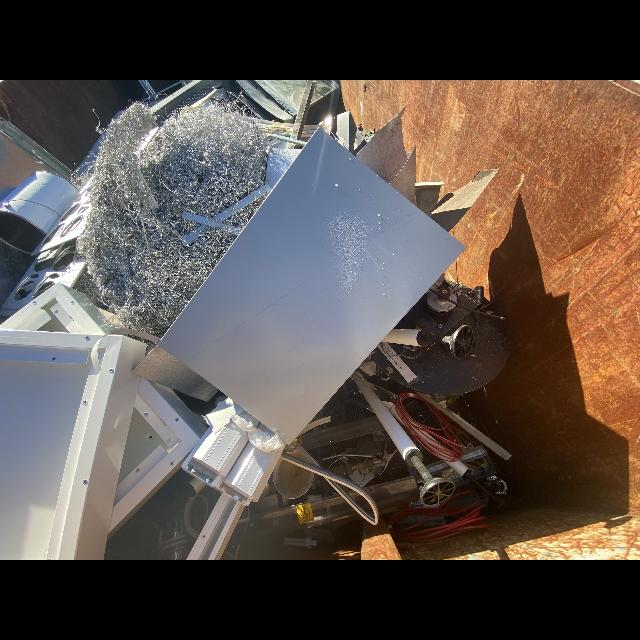Aluminium: (76, 103, 268, 336), (356, 106, 416, 204), (429, 169, 499, 231), (236, 80, 293, 123), (254, 80, 307, 115), (33, 240, 75, 271), (415, 181, 444, 213), (312, 80, 339, 102)
Ferrous Metal: (157, 129, 465, 442), (0, 330, 147, 560), (373, 318, 511, 396), (118, 381, 206, 488), (109, 437, 201, 534), (0, 171, 79, 253), (352, 374, 419, 466), (0, 283, 116, 335), (182, 423, 248, 488), (187, 492, 245, 559), (225, 442, 282, 505), (214, 184, 272, 221), (442, 324, 474, 359), (420, 478, 455, 505), (410, 454, 433, 483), (260, 185, 270, 197), (67, 413, 70, 416)
Galvanized Steel: (0, 261, 85, 317), (0, 117, 74, 179), (31, 182, 90, 256)
